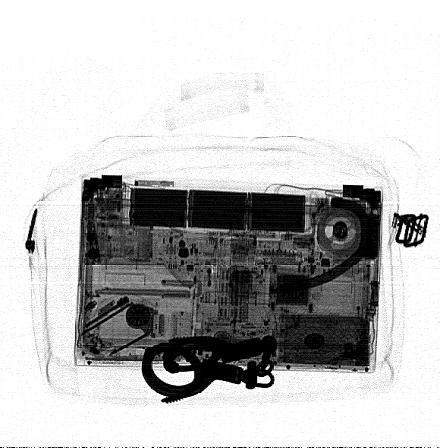HandCuffs: (141, 334, 278, 404)
